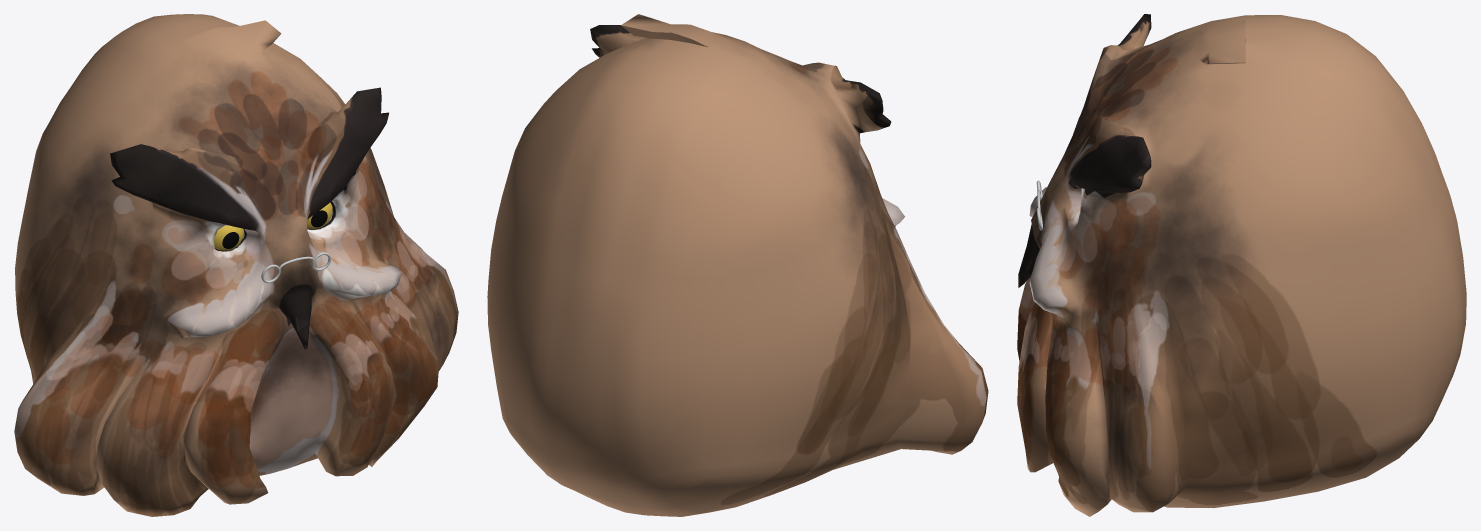
Rendered from Hoot.fbx.
3 renders of one model, left to right at view 1: azimuth 30°, elevation 25°; view 2: azimuth 150°, elevation 25°; view 3: azimuth 270°, elevation 25°, orthographic. The views are drawn at different scales.
Parts seen in each view (by area): view 1: Hoot_Low; view 2: Hoot_Low; view 3: Hoot_Low.
Boxes of the visible parts, x1,y1,x2,y2 form: Hoot_Low: (14, 14, 458, 516); Hoot_Low: (487, 14, 988, 516); Hoot_Low: (1017, 14, 1466, 516).
Bounding box in the file's own units: 245 × 222 × 197.
